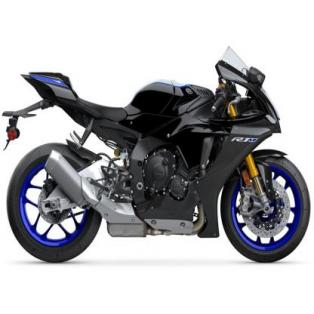Motocicleta: (2, 35, 310, 266)
